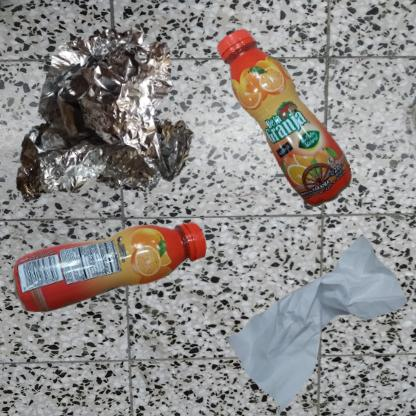aluminio: (10, 10, 218, 239)
botella: (213, 10, 386, 265), (10, 213, 213, 323)
papel: (213, 213, 416, 416)
